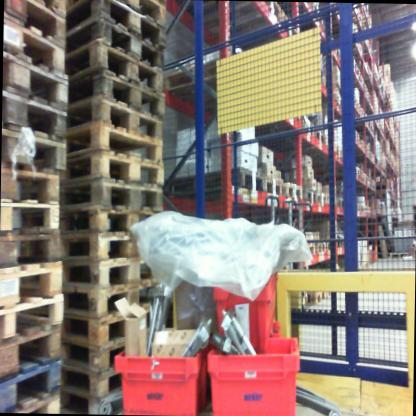pallet: (163, 39, 267, 125), (58, 253, 173, 304), (62, 37, 165, 93), (55, 275, 169, 321), (63, 0, 167, 50), (61, 99, 161, 149), (61, 70, 164, 118), (62, 144, 162, 192), (58, 223, 157, 270), (61, 330, 159, 377), (62, 122, 163, 167), (5, 19, 70, 85), (66, 19, 163, 63), (58, 303, 155, 347), (160, 161, 264, 200), (216, 14, 294, 65), (58, 177, 162, 215), (0, 258, 66, 316), (2, 53, 66, 112), (59, 199, 152, 239), (0, 355, 63, 413), (0, 325, 58, 385), (3, 0, 70, 51), (0, 228, 65, 280), (0, 296, 64, 347), (3, 86, 65, 137), (181, 2, 283, 30), (66, 0, 168, 26), (58, 360, 128, 396), (1, 129, 67, 165), (1, 164, 60, 203), (2, 202, 60, 238), (64, 389, 130, 413), (35, 0, 77, 23), (19, 395, 62, 413), (307, 285, 329, 312), (278, 175, 300, 201), (291, 239, 317, 259), (264, 175, 284, 198), (384, 246, 410, 263), (301, 110, 315, 141), (311, 237, 330, 258), (374, 180, 395, 198), (301, 188, 319, 208), (313, 130, 326, 147), (316, 189, 328, 207), (326, 238, 337, 255)
small_load_carrier: (204, 318, 307, 416), (107, 332, 209, 416), (207, 261, 283, 340)
